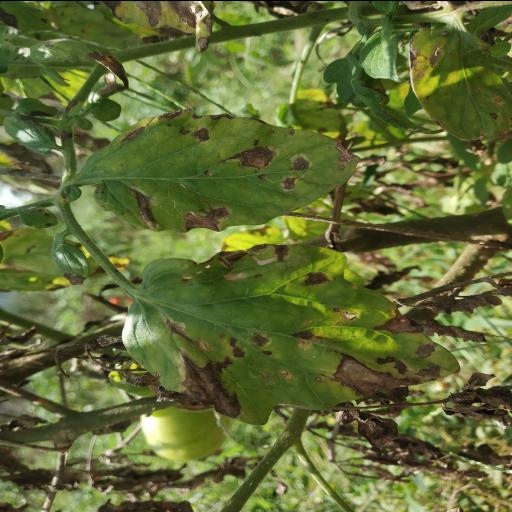Early Blight: (118, 240, 466, 428), (73, 98, 365, 236)
